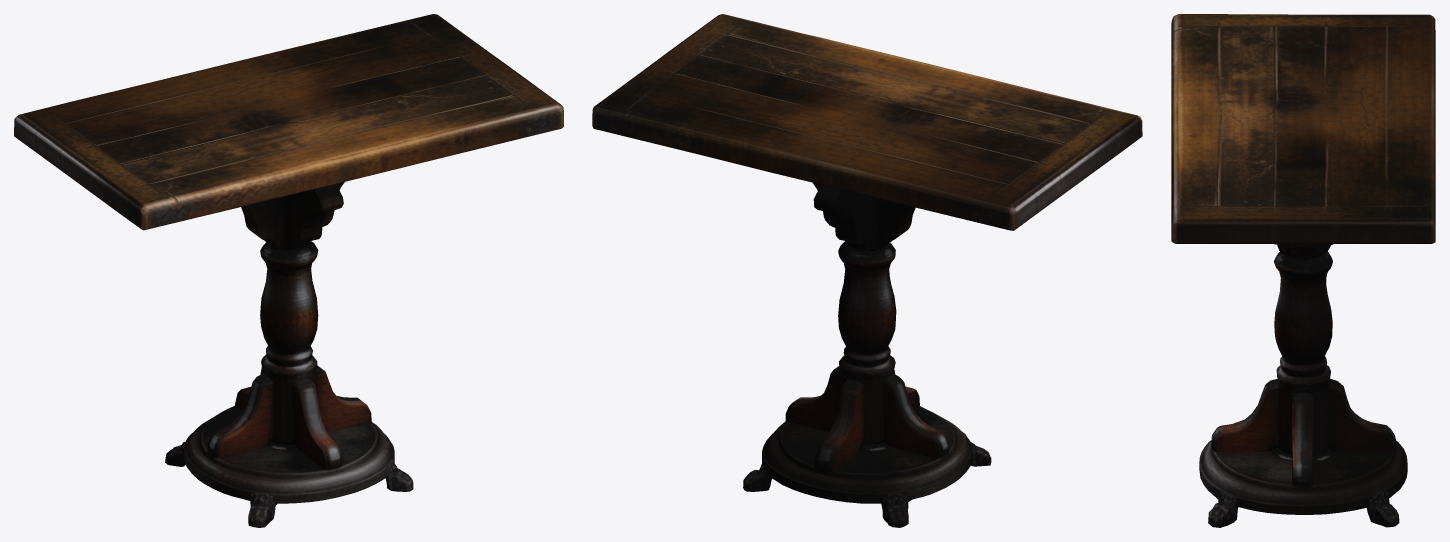
The model's file is trellis_1789133828693_mrhds.glb.
3 views of the same model, side by side, from view 1: azimuth 30°, elevation 25°; view 2: azimuth 150°, elevation 25°; view 3: azimuth 270°, elevation 25° (orthographic).
Parts seen in each view (by area): view 1: world; view 2: world; view 3: world.
Boxes of the visible parts, bbox=[...] form: world: bbox=[14, 14, 563, 527]; world: bbox=[592, 14, 1142, 527]; world: bbox=[1171, 14, 1435, 527].
Bounding box in the file's own units: 1 × 0.8301 × 0.5352.
1 material, 1 textured.
